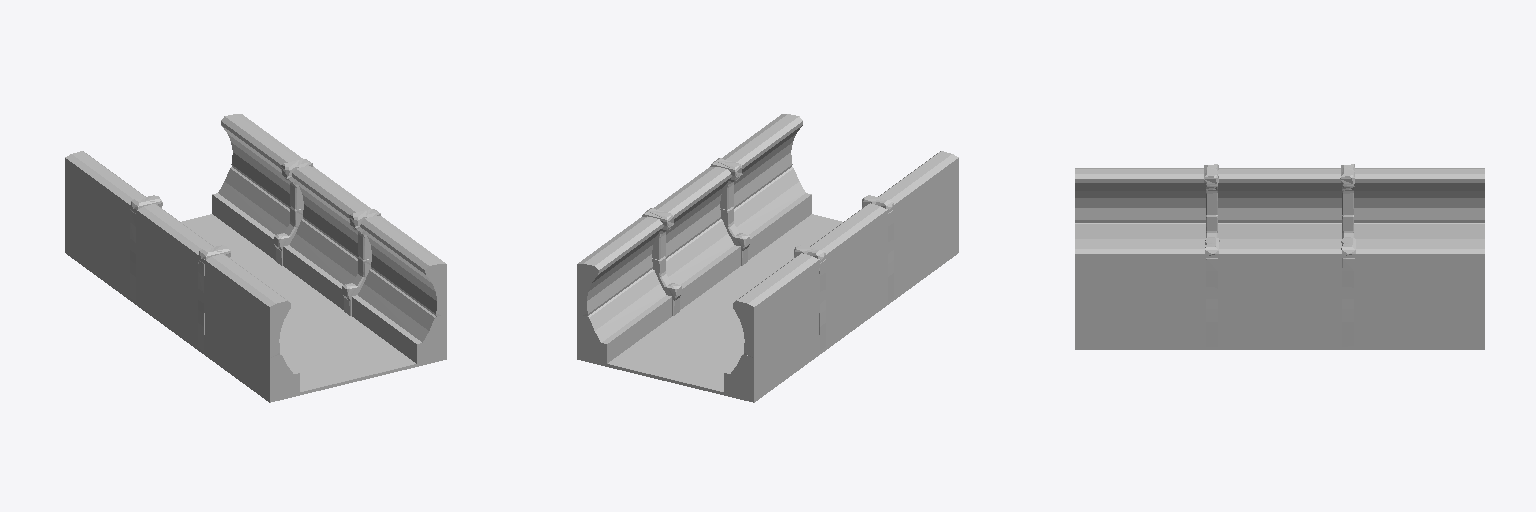
The model's file is DungeonRoom_16.obj.
3 views of the same model, side by side, from view 1: azimuth 30°, elevation 25°; view 2: azimuth 150°, elevation 25°; view 3: azimuth 270°, elevation 25° (orthographic).
Visible parts, largest first — view 1: DungeonRoom_16; view 2: DungeonRoom_16; view 3: DungeonRoom_16.
Part boxes in pixels (x1,y1,x2,y2): DungeonRoom_16: (65,114,446,402); DungeonRoom_16: (577,114,958,402); DungeonRoom_16: (1075,164,1484,349).
Bounding box in the file's own units: 12.11 × 6.51 × 24.